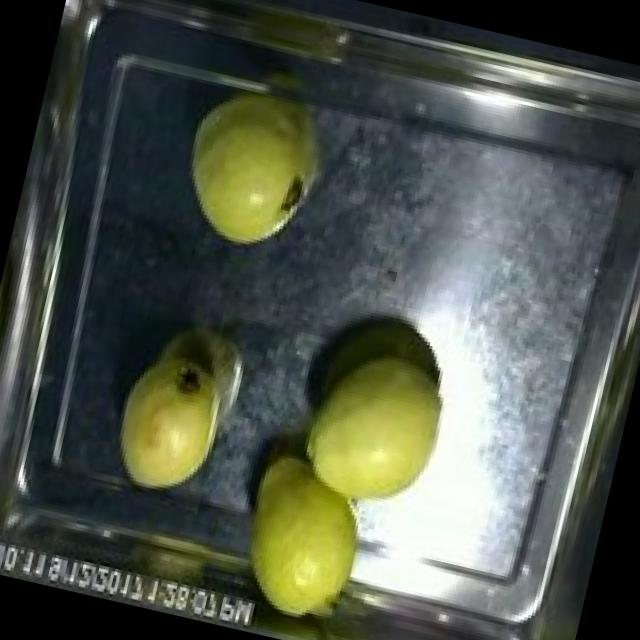Fruit: (283, 296, 475, 529), (214, 417, 395, 640), (162, 75, 342, 268), (98, 302, 258, 514)
